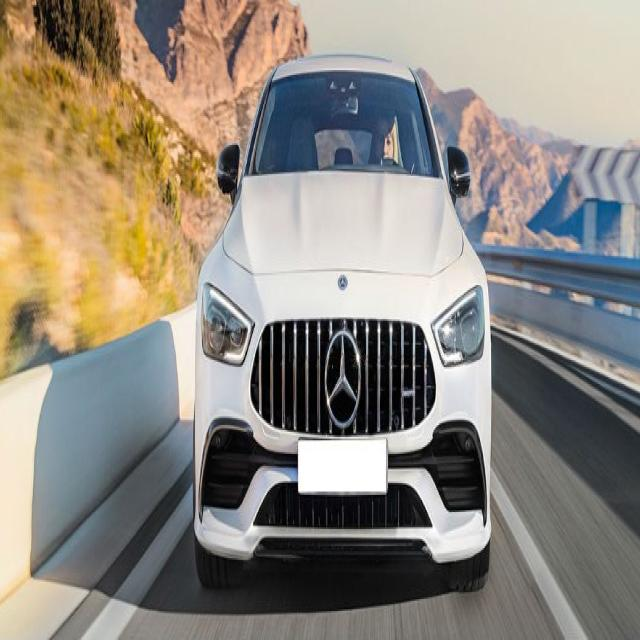Car: (194, 41, 493, 586)
